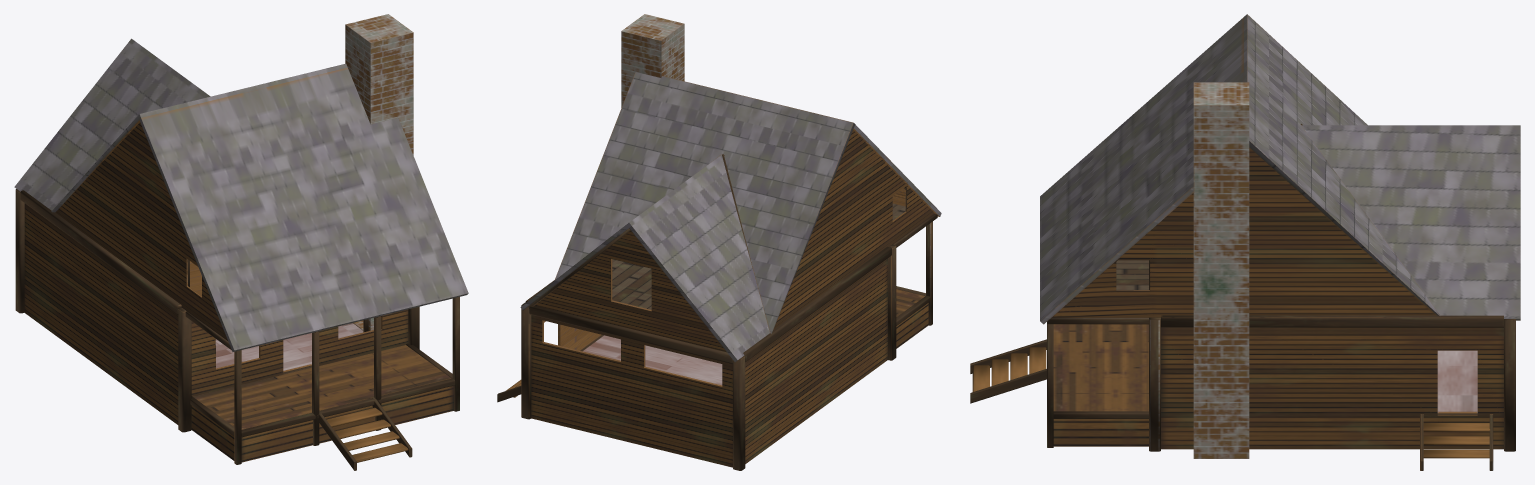
Rendered from Cabin 1 (High Poly).fbx.
3 views of the same model, side by side, from view 1: azimuth 30°, elevation 25°; view 2: azimuth 150°, elevation 25°; view 3: azimuth 270°, elevation 25° (orthographic). The views are drawn at different scales.
Parts seen in each view (by area): view 1: LowPolyFullTex; view 2: LowPolyFullTex, InteriorFullTex; view 3: LowPolyFullTex.
Boxes of the visible parts, left/top/right/bottom form: LowPolyFullTex: left=14, top=14, right=468, bottom=470; LowPolyFullTex: left=497, top=14, right=941, bottom=470; InteriorFullTex: left=528, top=154, right=905, bottom=351; LowPolyFullTex: left=970, top=14, right=1520, bottom=470.
Bounding box in the file's own units: 1243 × 1408 × 1983.
